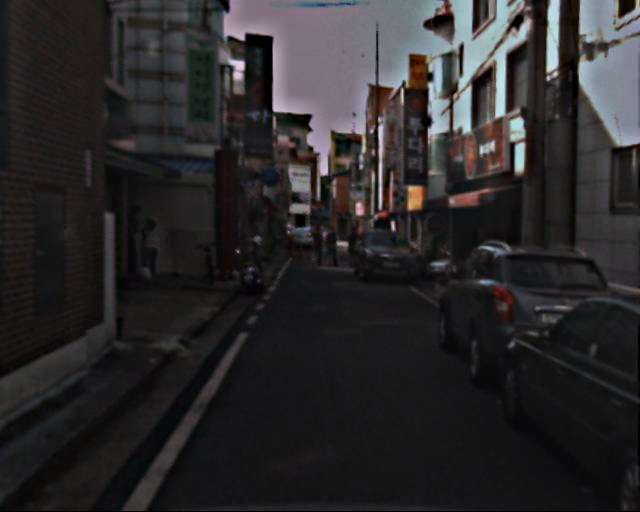person: (121, 207, 150, 277), (138, 218, 163, 280), (345, 227, 362, 269), (324, 225, 341, 267), (311, 224, 328, 265)
